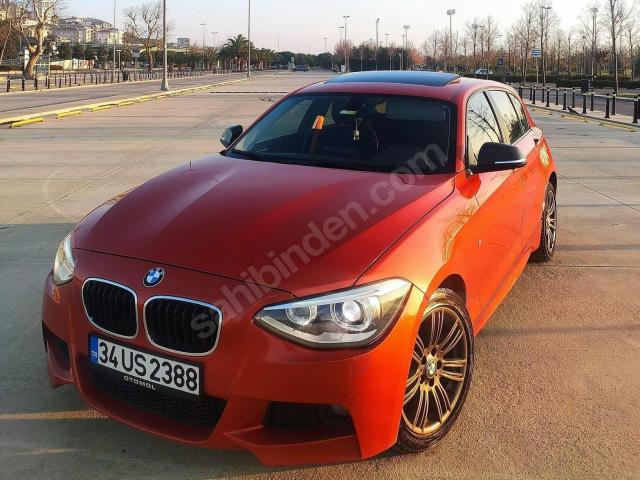plaka: (90, 336, 201, 395)
